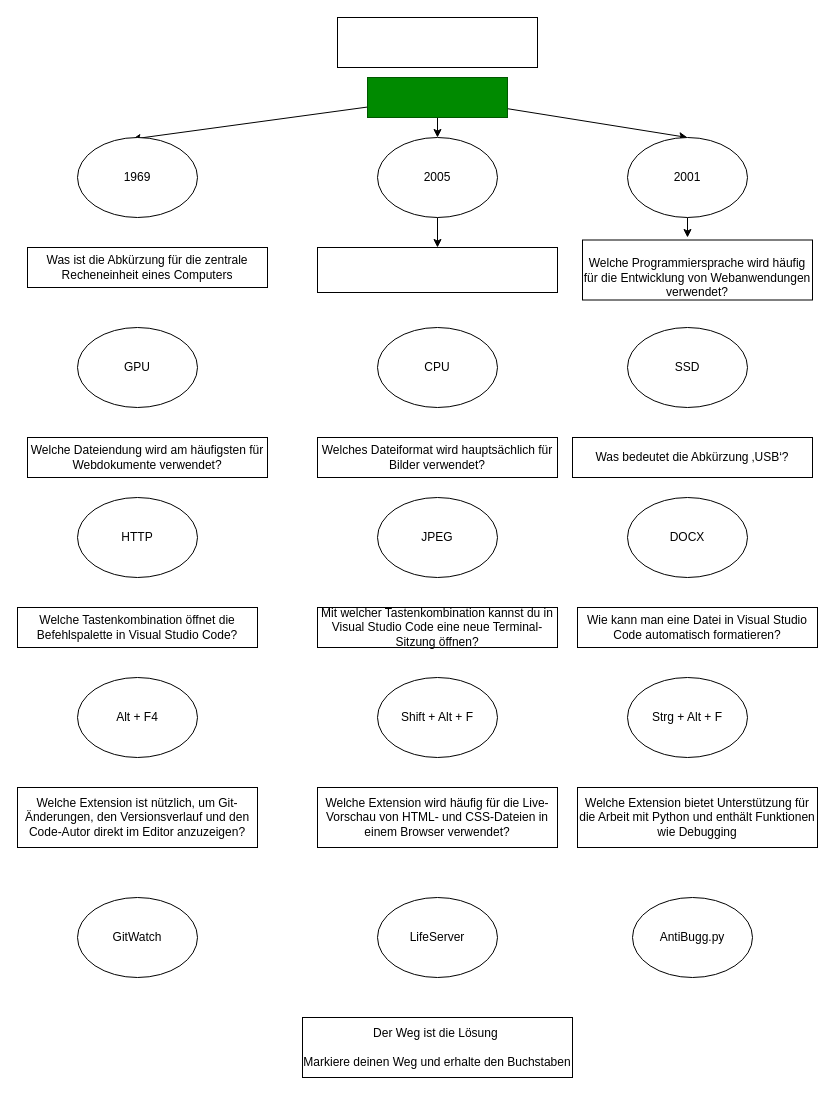
Image size: 835x1095. Some labels were removed from this diagram. Here are the shapes that lost their labels. From the top down, the centre of each, then its label:
(437,42): Willkommen im Labyrinth : Suche nach dem 3 Buchstaben. Folge dem richtigen Pfad
(437,97): Welches Jahr wird als Geburtsjahr des Internets betrachtet
(437,269): Welches Protokoll wird verwendet, um Webseiten sicher zu übertragen?
